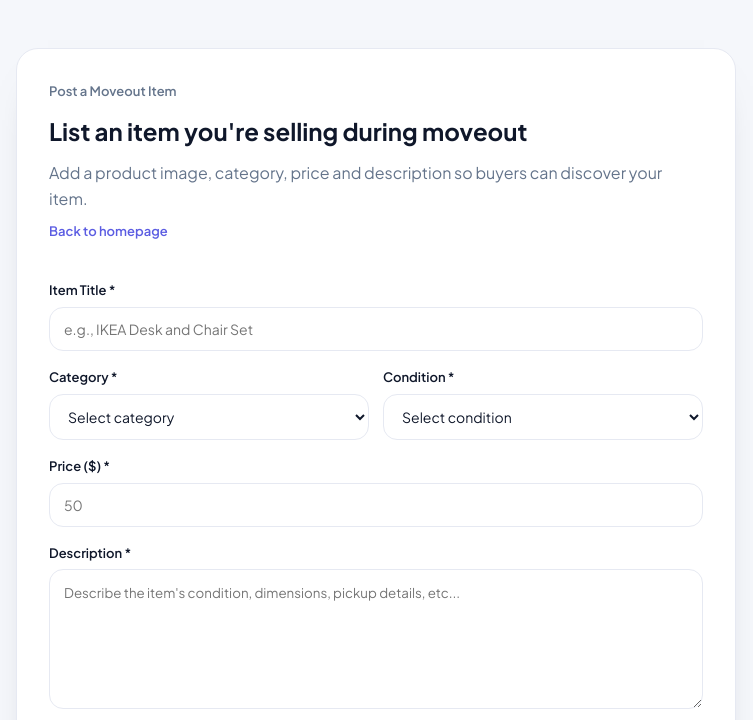
PostItem Component › Submission › shows an error when image is missing
This screenshot has width=753, height=720.
Type "Desk Lamp" into the field labelled "Item Title *".
click(376, 329); type("Desk Lamp")  # box [49,307,703,351]
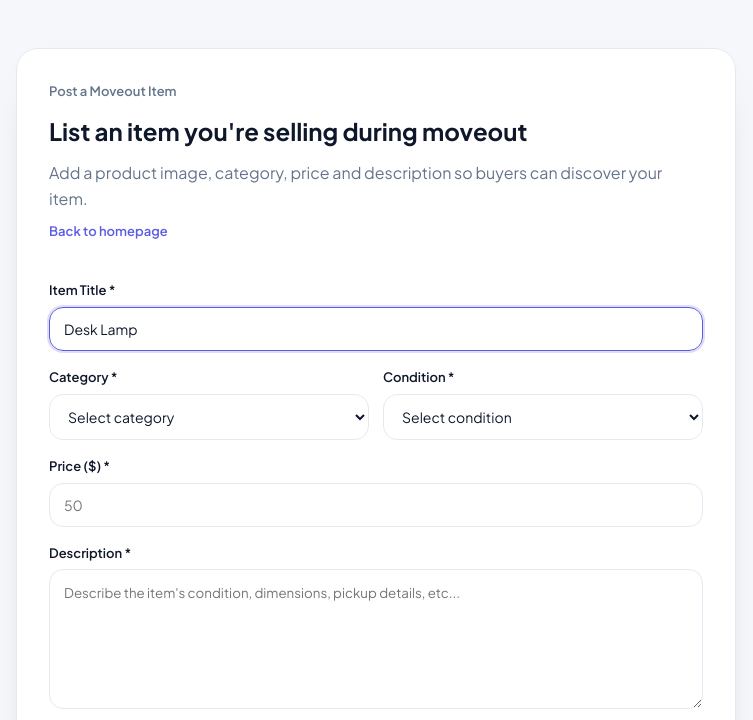
Select "Other" in the dropdown labelled "Category *" at (209, 417), box [49,394,369,440]
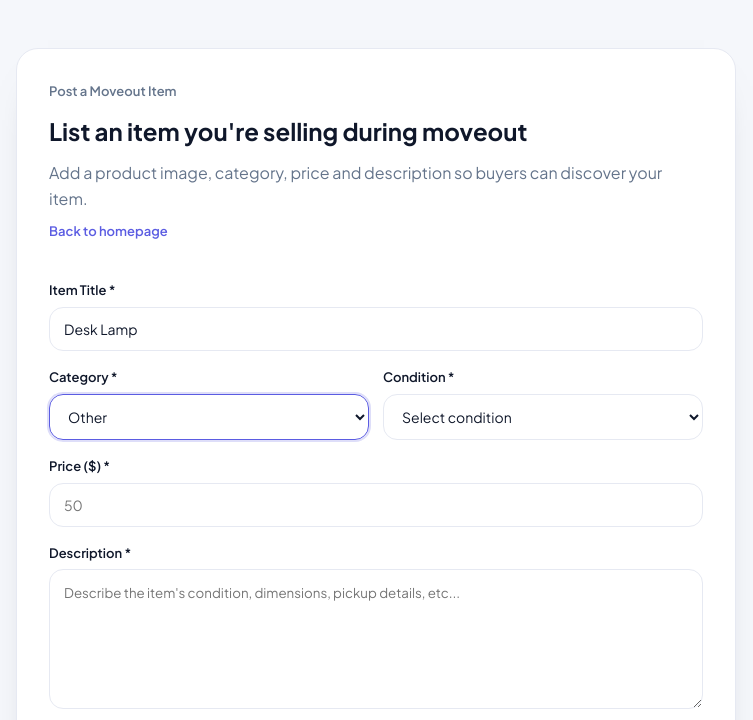
Select "Good" in the dropdown labelled "Condition *" at (543, 417), box [383,394,703,440]
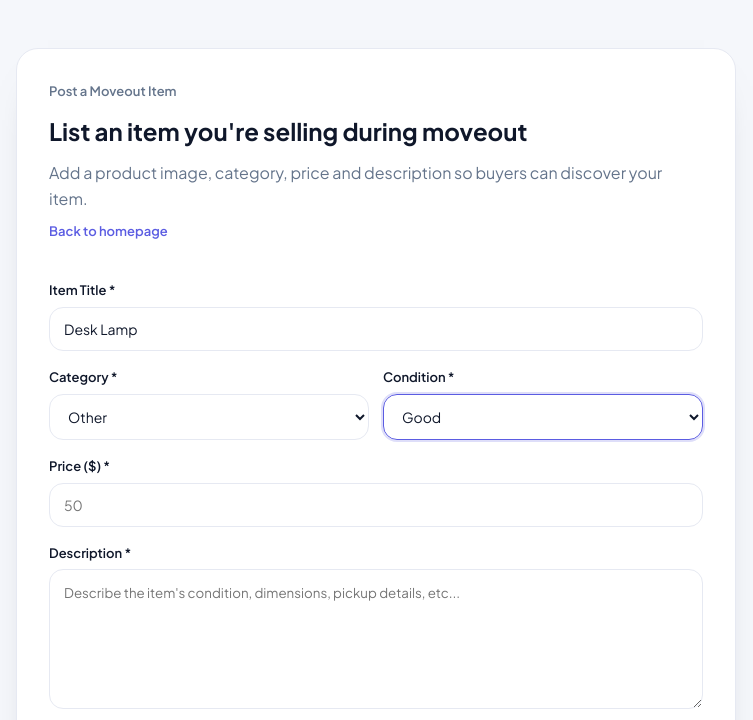
Type "25" into the number field labelled "Price ($) *".
click(376, 505); type("25")  # box [49,483,703,527]
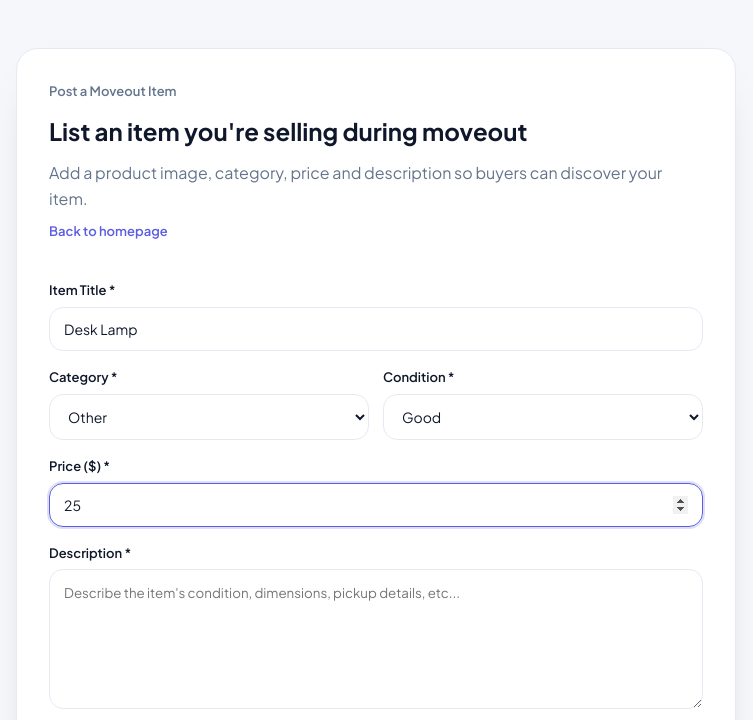
Type "Compact lamp in good condition." into the text box labelled "Description *".
click(376, 639); type("Compact lamp in good condition.")  # box [49,569,703,709]
(page scrolled)
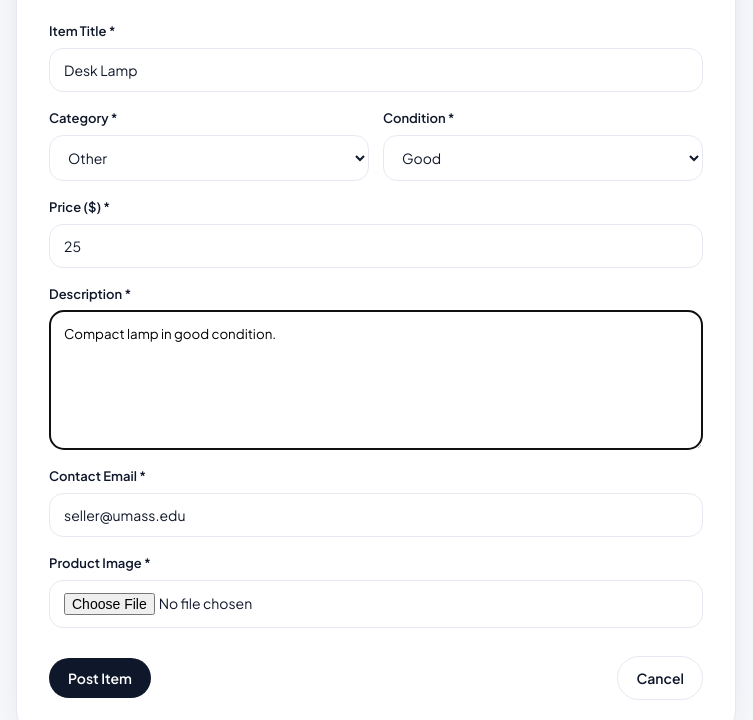
Submit the form named "Post Item"
(page scrolled)
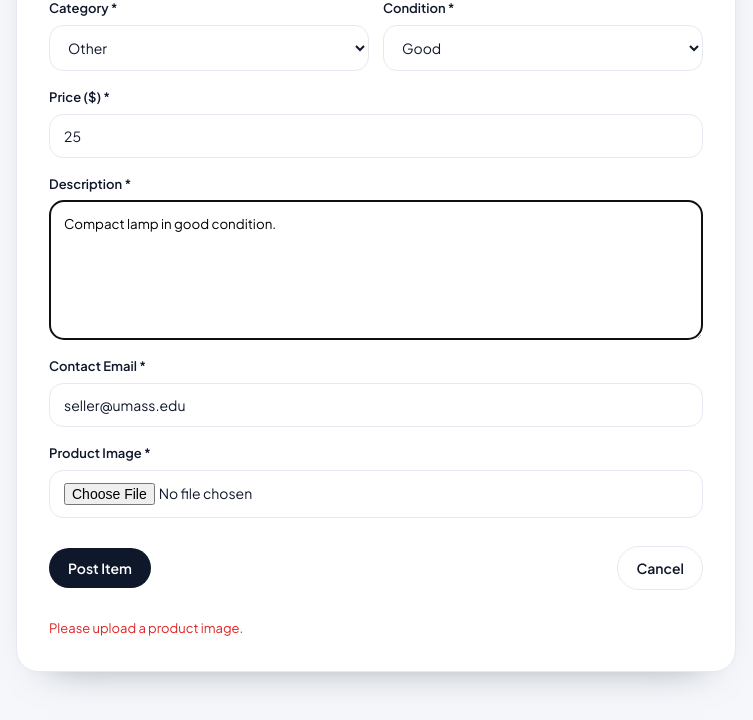
Now the text "Please upload a product image." is shown, box [49,620,243,636]
